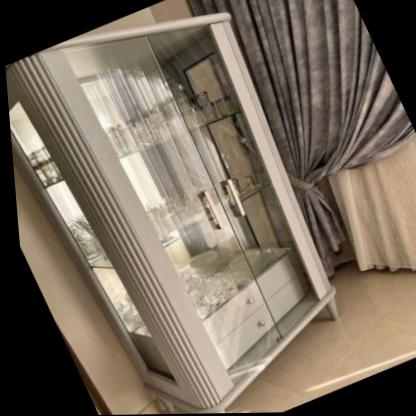Cupboard: (0, 0, 395, 416)
